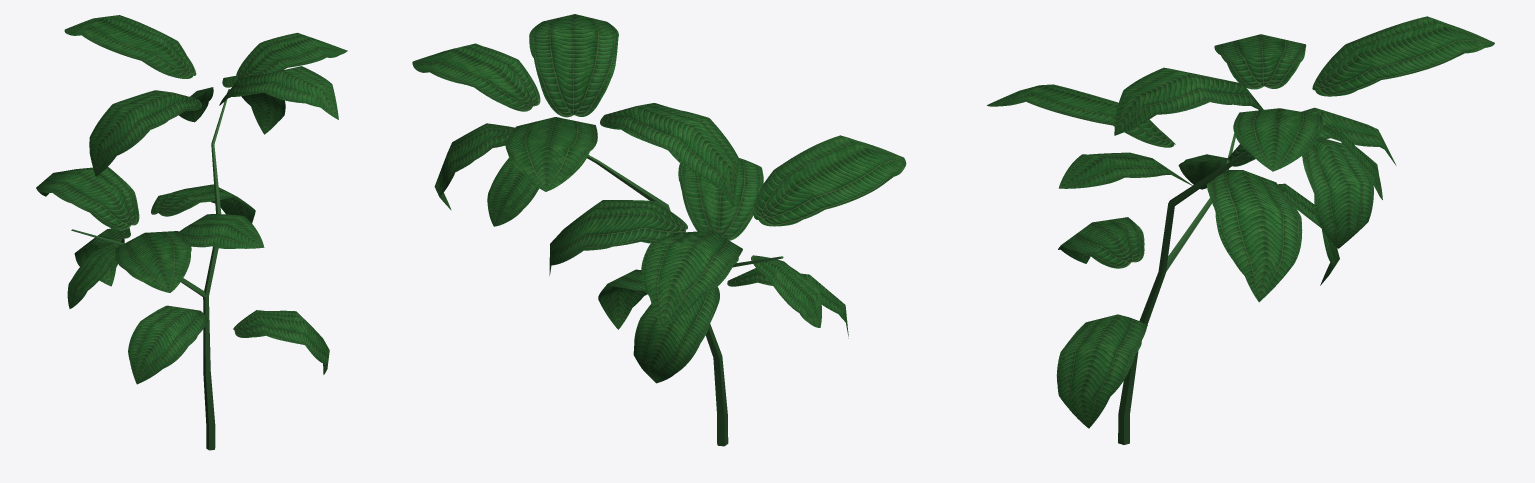
The model's file is Tropical_Plant_BL_01.FBX.
The picture shows the model from 3 angles, left to right: view 1: azimuth 30°, elevation 25°; view 2: azimuth 150°, elevation 25°; view 3: azimuth 270°, elevation 25°; orthographic projection. The views are drawn at different scales.
Parts seen in each view (by area): view 1: Tropical_Plant_BL_01; view 2: Tropical_Plant_BL_01; view 3: Tropical_Plant_BL_01.
Part boxes in pixels (box(x1,y1,x2,y2)): Tropical_Plant_BL_01: box(36, 15, 347, 450); Tropical_Plant_BL_01: box(412, 14, 906, 446); Tropical_Plant_BL_01: box(987, 16, 1494, 444).
Size of the model in its own units: 123 by 127 by 142.
